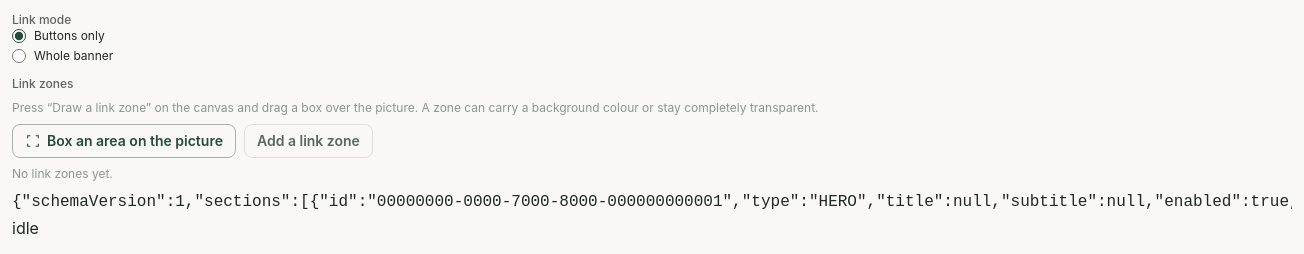
Test: HeroLinkSettings › arms the box-select tool so the operator can drag an area on the picture
The width and height of the screenshot is (1304, 254).
Expected: the text with test id "zone-tool" reads "idle", [12,218,39,238]
Click the button "Box an area on the picture": click(124, 141) [12,124,236,158]
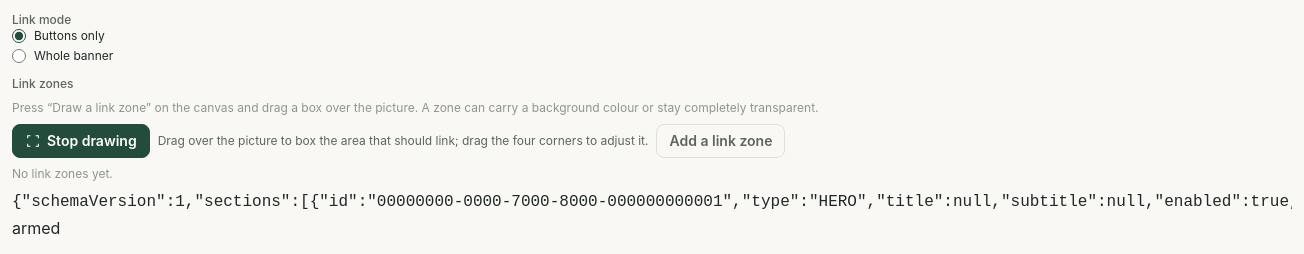
Expected: the text with test id "zone-tool" reads "armed", [12,218,60,238]
Expected: the text "Drag over the picture" is shown, [158,133,648,148]
